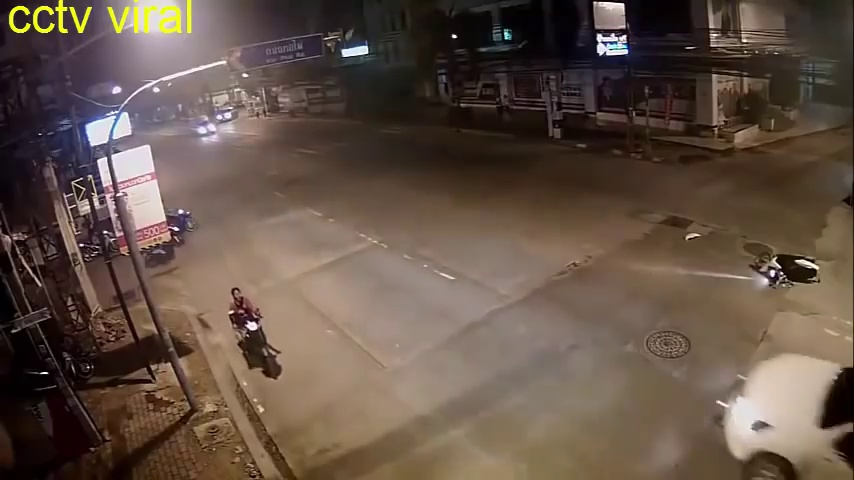motorbike: (226, 283, 280, 378)
